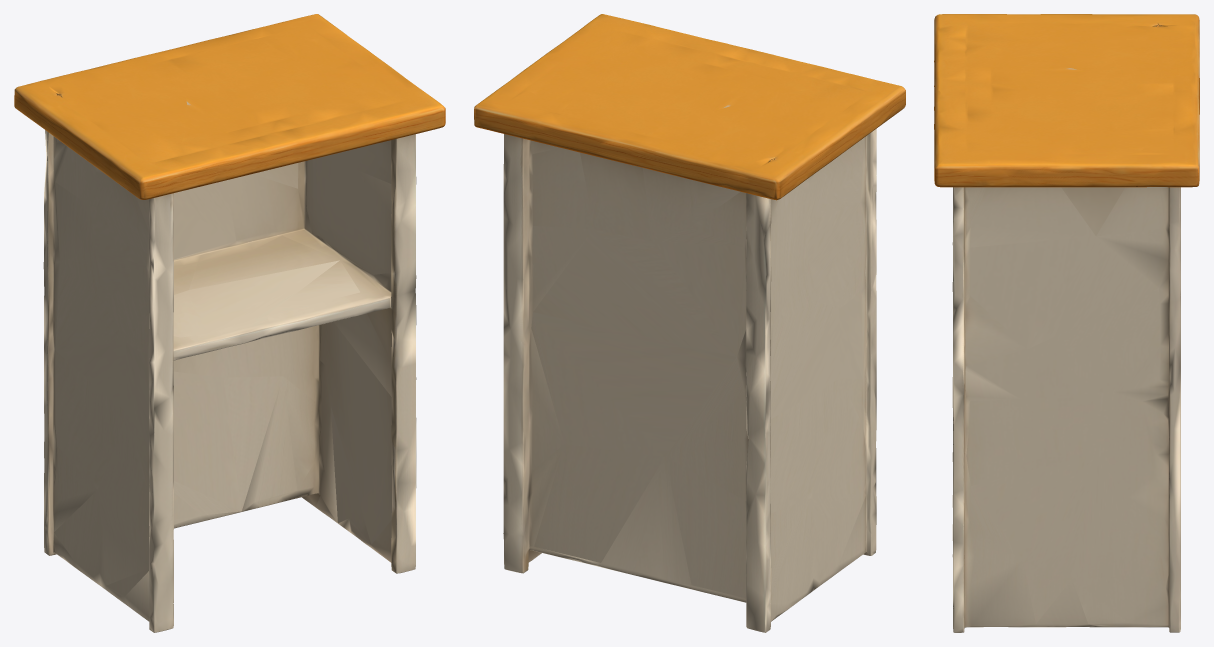
File: cabinet-v67.glb
The picture shows the model from 3 angles, left to right: view 1: azimuth 30°, elevation 25°; view 2: azimuth 150°, elevation 25°; view 3: azimuth 270°, elevation 25°; orthographic projection. The views are drawn at different scales.
Parts seen in each view (by area): view 1: cabinet-surface; view 2: cabinet-surface; view 3: cabinet-surface.
Boxes of the visible parts, x1,y1,x2,y2 form: cabinet-surface: (14, 14, 445, 632); cabinet-surface: (474, 14, 905, 632); cabinet-surface: (934, 14, 1199, 632).
Bounding box in the file's own units: 0.7898 × 1.15 × 0.5767.
1 material, 1 textured.
